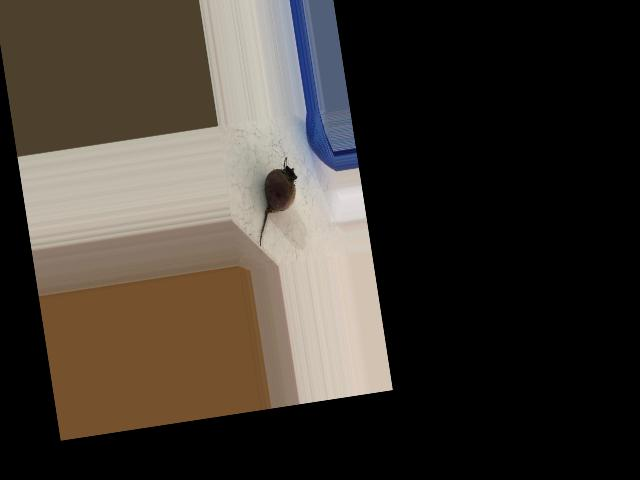beet: (247, 156, 306, 246)
